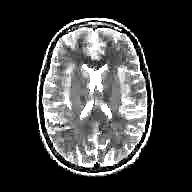Normal_Brain: (1, 1, 192, 192)
